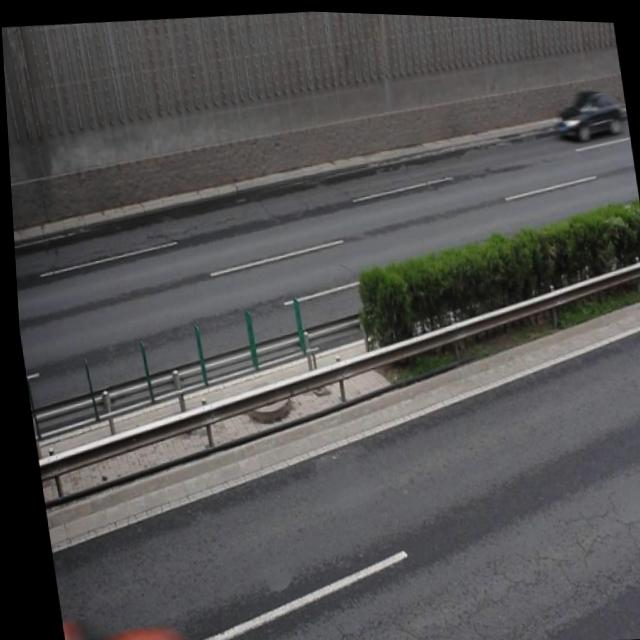car: (546, 76, 620, 139)
